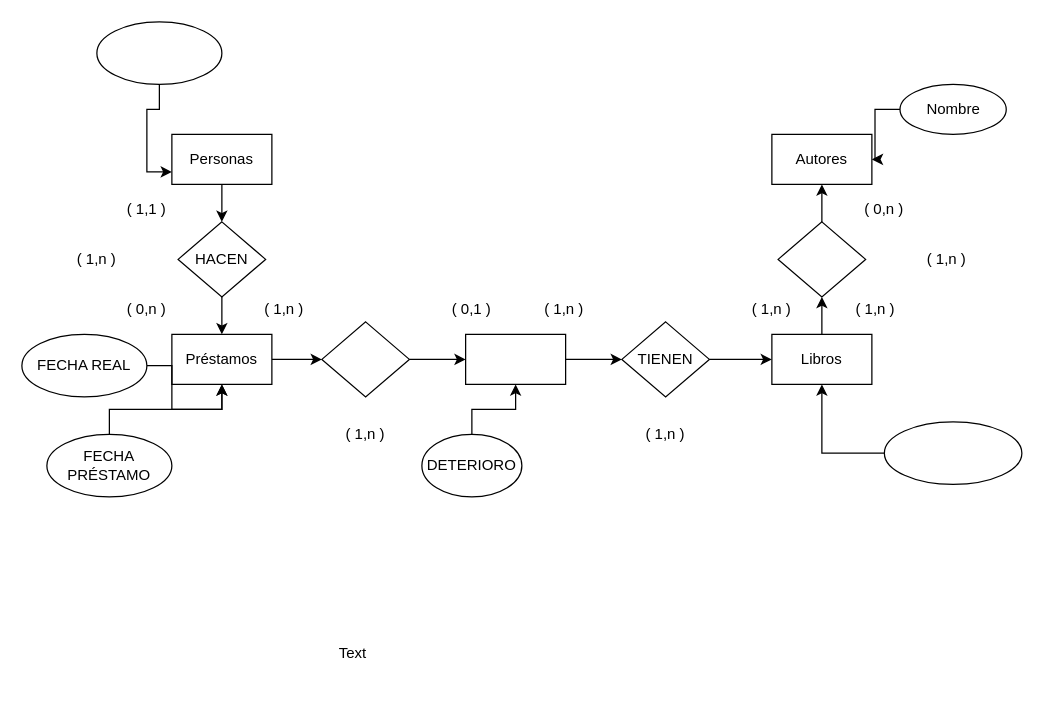
Image size: 1044x706. Some labels were removed from this diagram. Here are the shapes that lost their labels. From the top down, the centre of each, then its label:
the point at 159,52: Información personal y COD SOCIO
the point at 821,259: ESCRIBEN
the point at 365,359: PRESTAN
the point at 515,358: Volúmenes
the point at 952,452: información del libro ISBN
